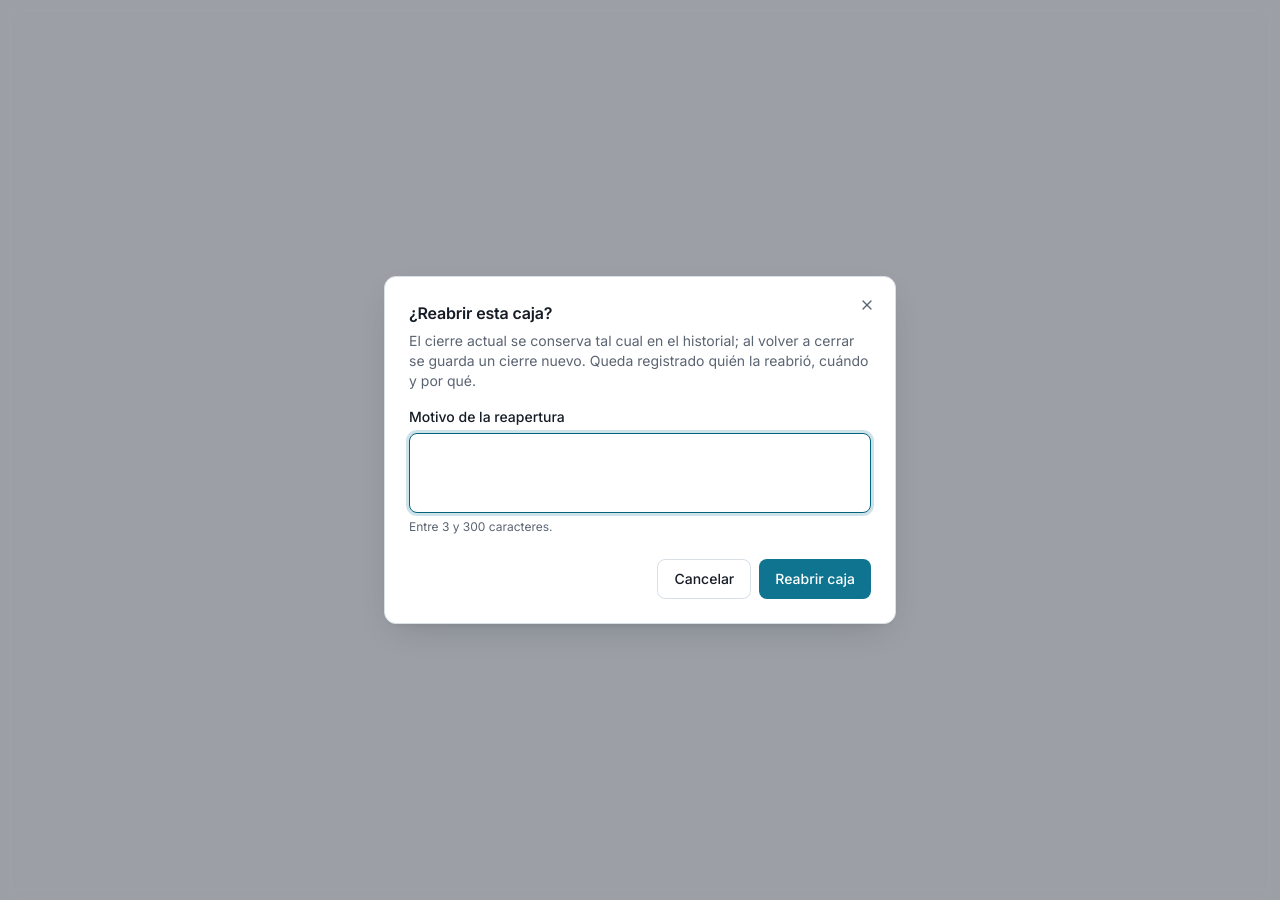
Test: ReopenCashSessionModal (DX-027, DX-252) › el error de la API sale en español: el de negocio tal cual y el técnico en inglés traducido
Later steps or results of the test are not shown.
Type "Faltó un abono" into the text box labelled "Motivo de la reapertura". click: [640, 473]
box: [409,433,871,513]
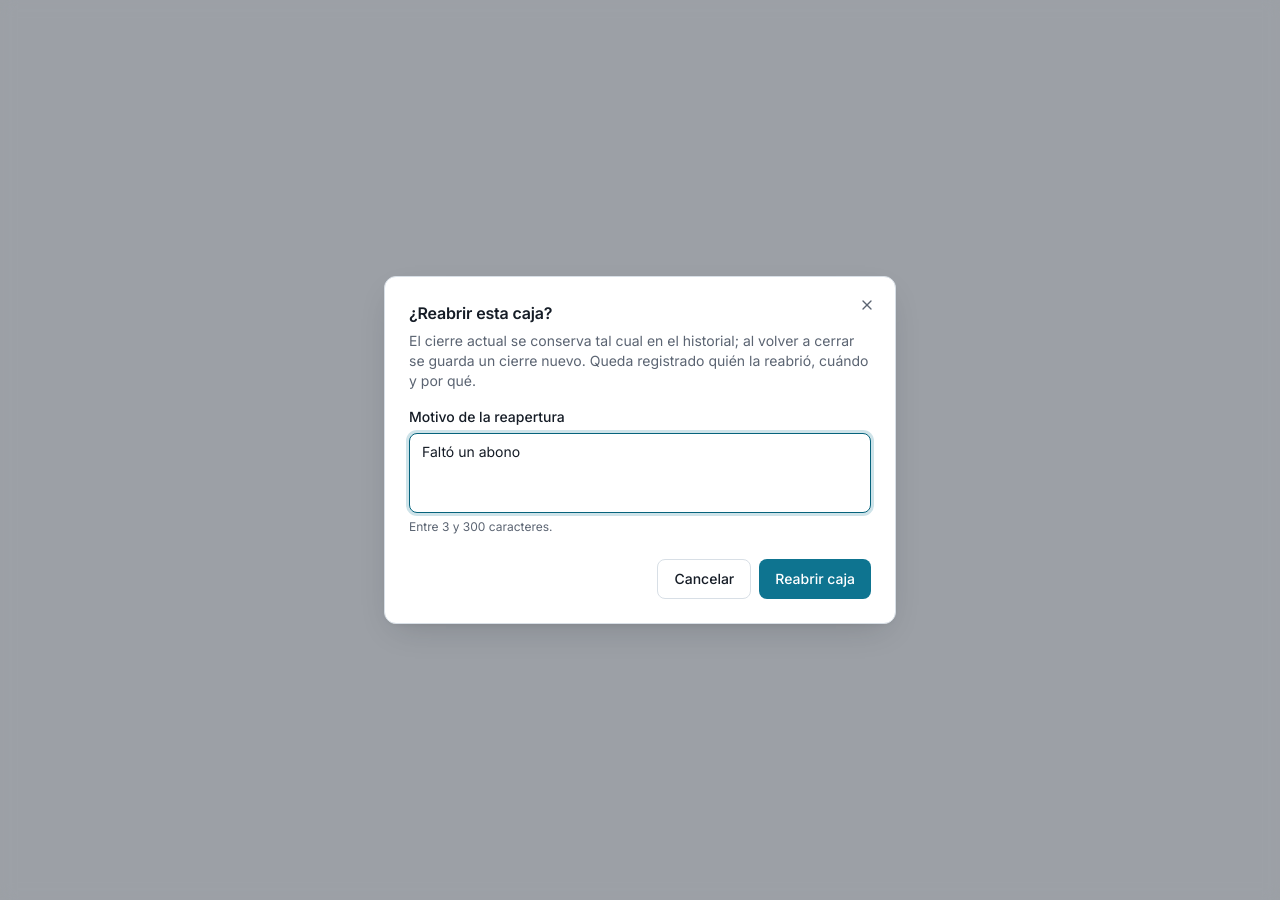
Click the button "Reabrir caja". click: [815, 579]
box: [759,559,871,599]
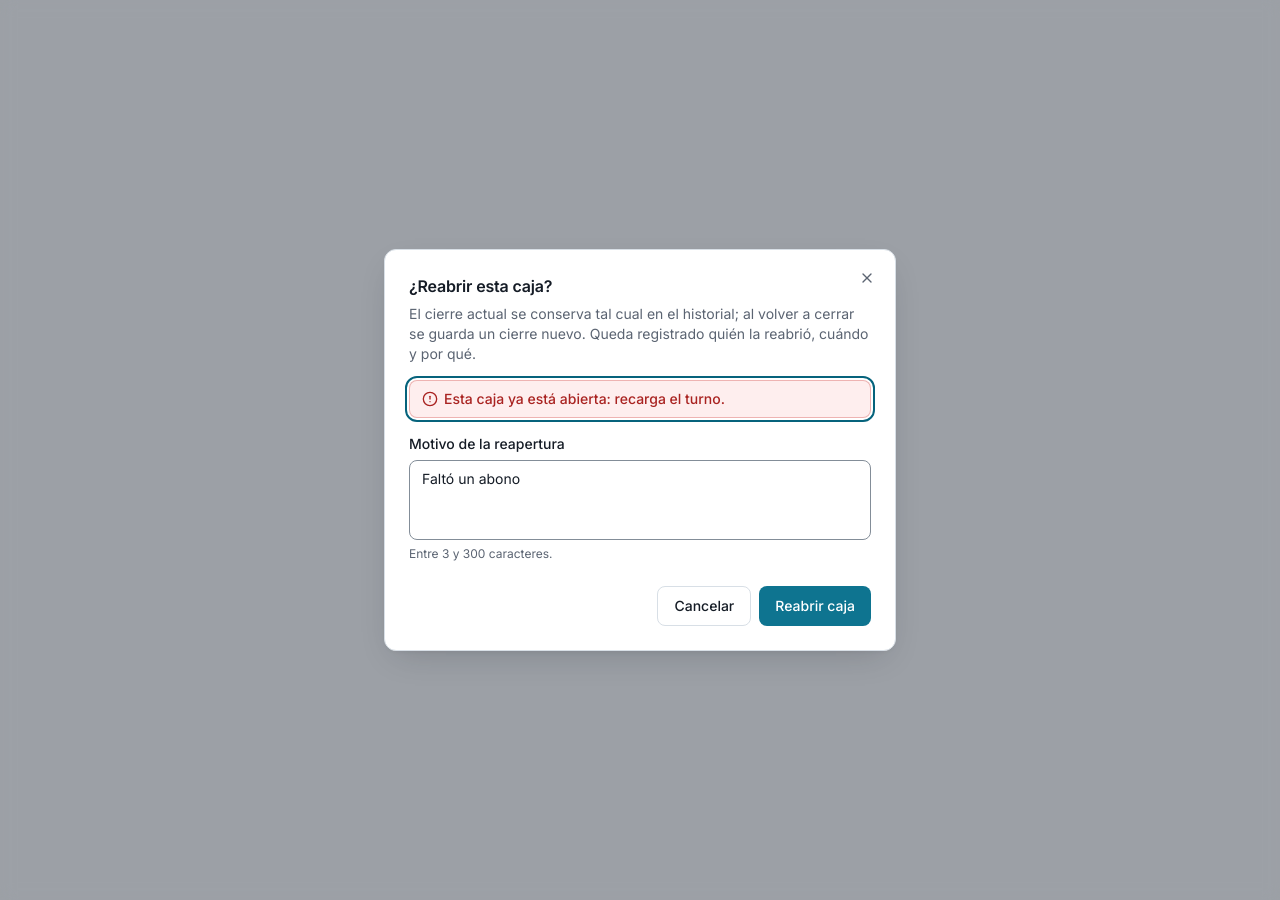
expect the text "Esta caja ya está abierta: recarga el turno." is shown: met, box [444,389,725,409]
Click the button "Reabrir caja". click: [815, 606]
box: [759,586,871,626]
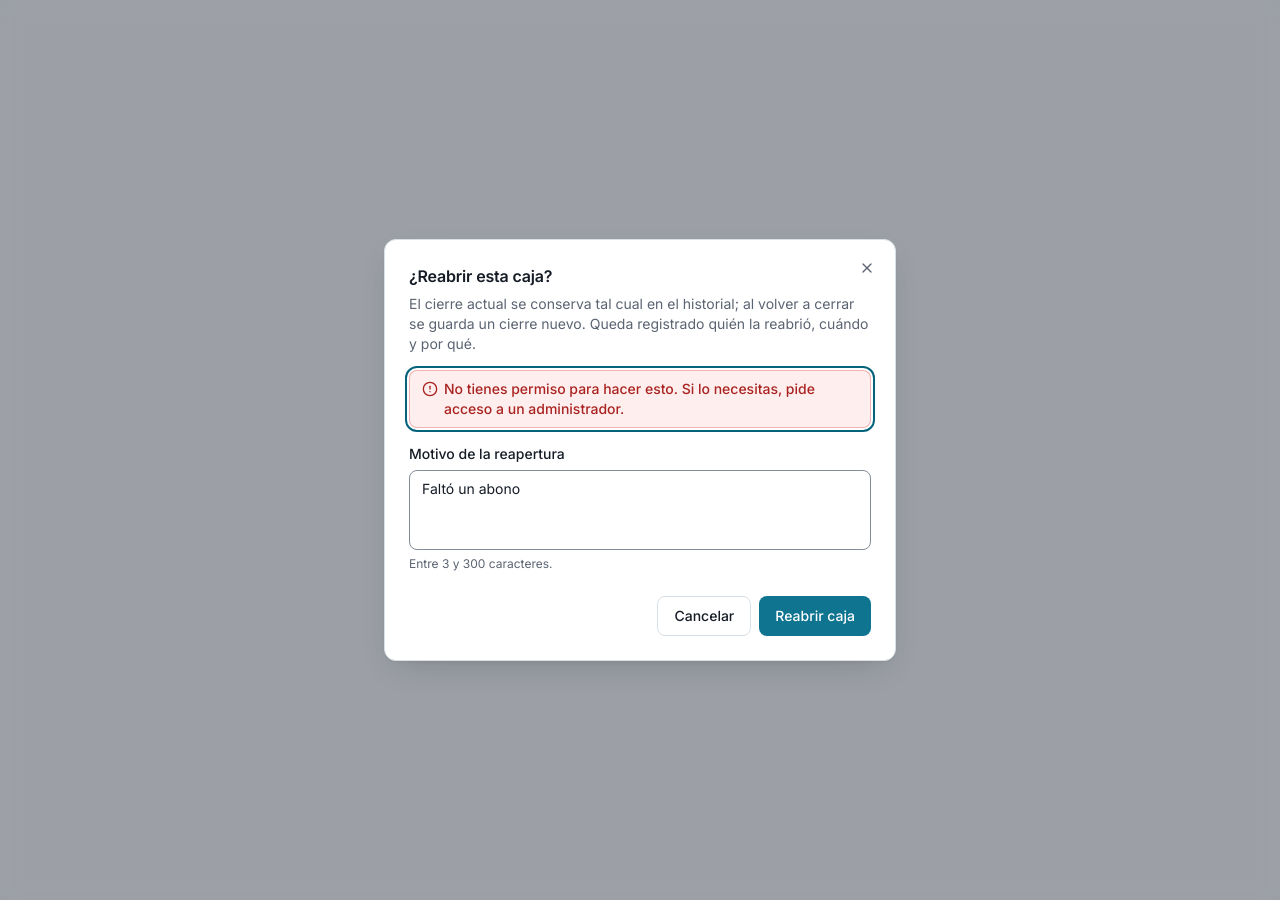
expect the text "No tienes permiso para hacer esto. Si lo necesitas, pide acceso a un administrador." is shown: met, box [444,380,815,417]
Click the button "Reabrir caja". click: [815, 616]
box: [759,596,871,636]
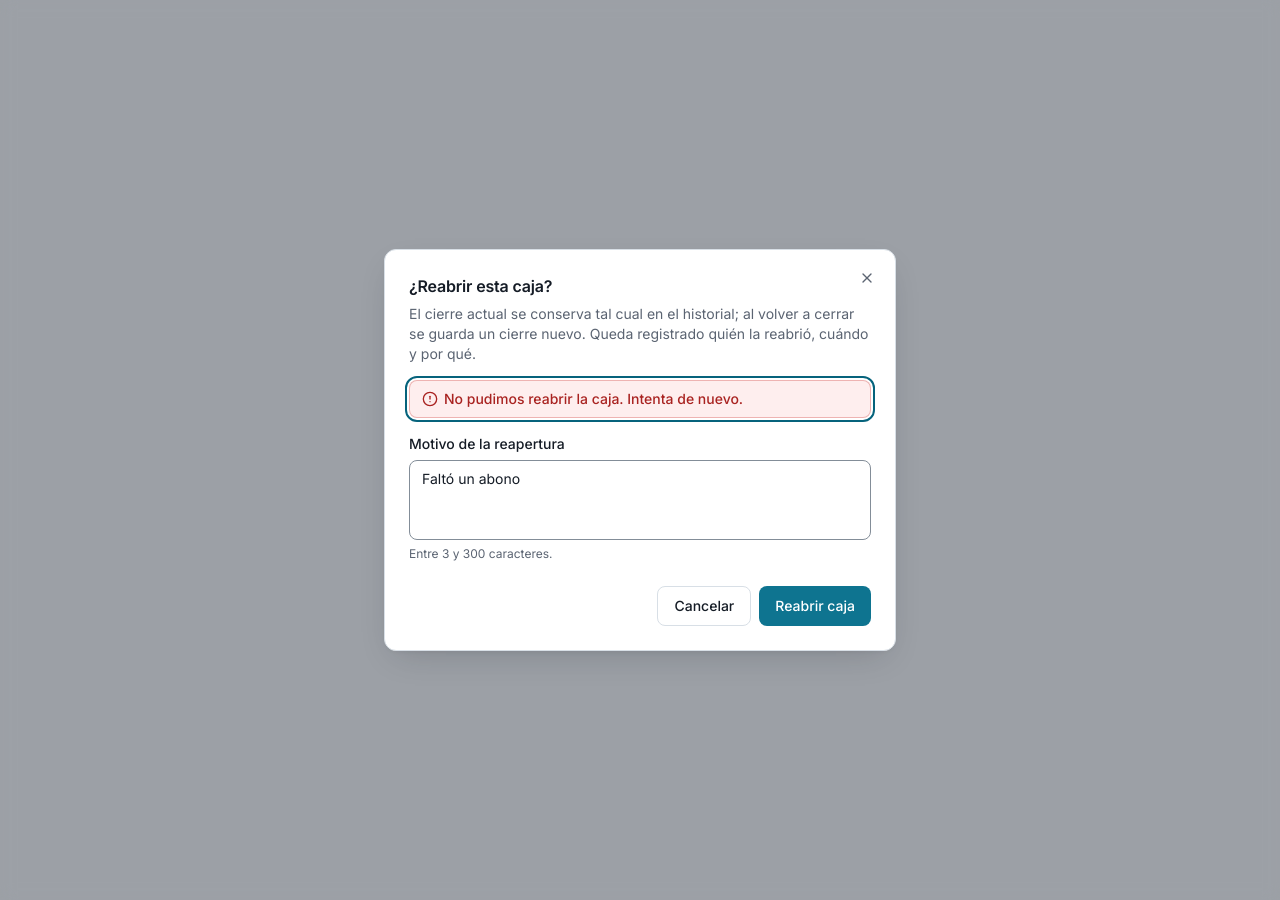
expect the text "No pudimos reabrir la caja. Intenta de nuevo." is shown: met, box [444,389,743,409]
